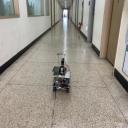cart: (52, 68, 70, 94)
